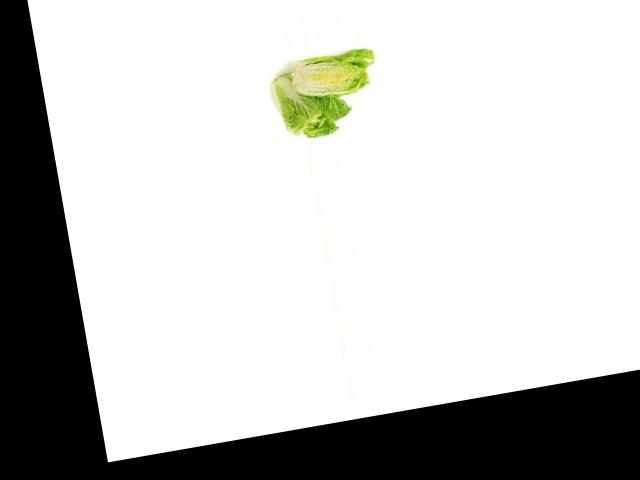lettuce: (265, 58, 360, 147)
